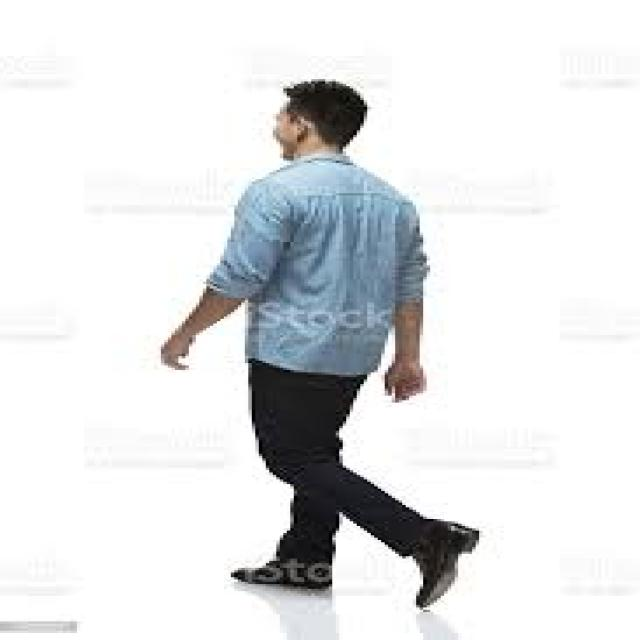Person: (162, 77, 480, 609)
